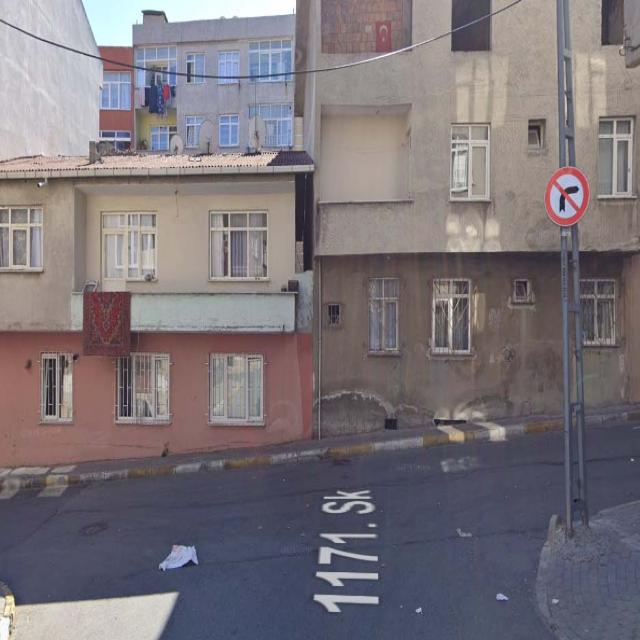sagadonulmez: (544, 167, 588, 226)
